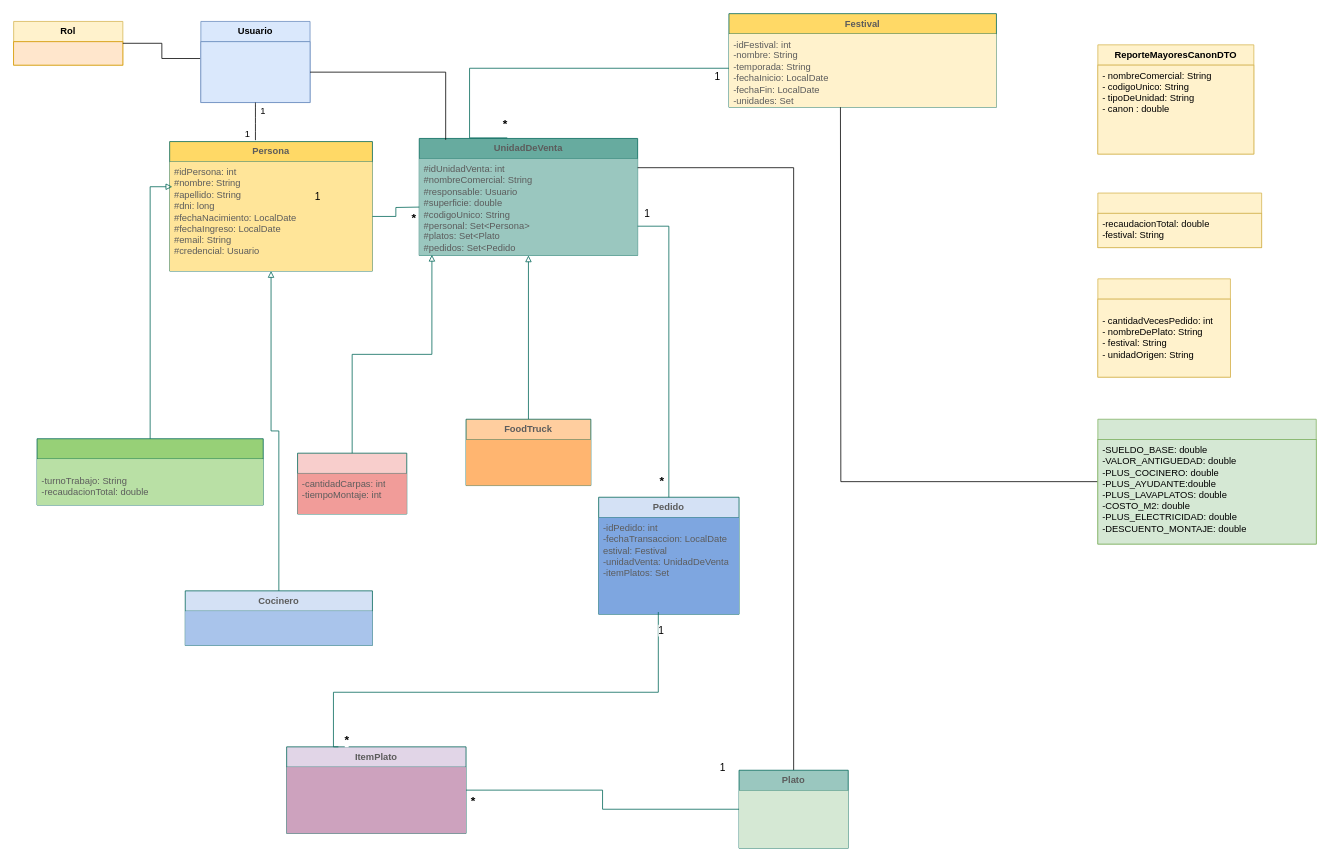
Image size: 1330x864. Some labels were removed from this diagram. The shapes that lost their labels are listed below. From the top down, each one's box as (x1, y1, x2, y2) in pixels, then its label:
(13, 41, 123, 65): - rol: String
(200, 41, 310, 103): - nombreUsuario: String - pass: String - rolUsuario: Rol - activo: boolean
(1097, 192, 1262, 248): ReporteVentaDTO
(1097, 278, 1230, 377): PlatoDTO
(36, 438, 263, 505): Cajero
(466, 439, 590, 485): -patente: String -conexionElectrica: boolean
(1097, 418, 1316, 544): ParametrosNegocio
(297, 452, 407, 514): PuestoDesarmable
(185, 611, 372, 645): -especialidad: String -categoria: String
(286, 767, 466, 833): -idItemPlato: int -plato: Plato -cantidad: int -subTotal: double
(739, 790, 848, 848): -idPlato: int -nombre: String -precio: double -costo: double
